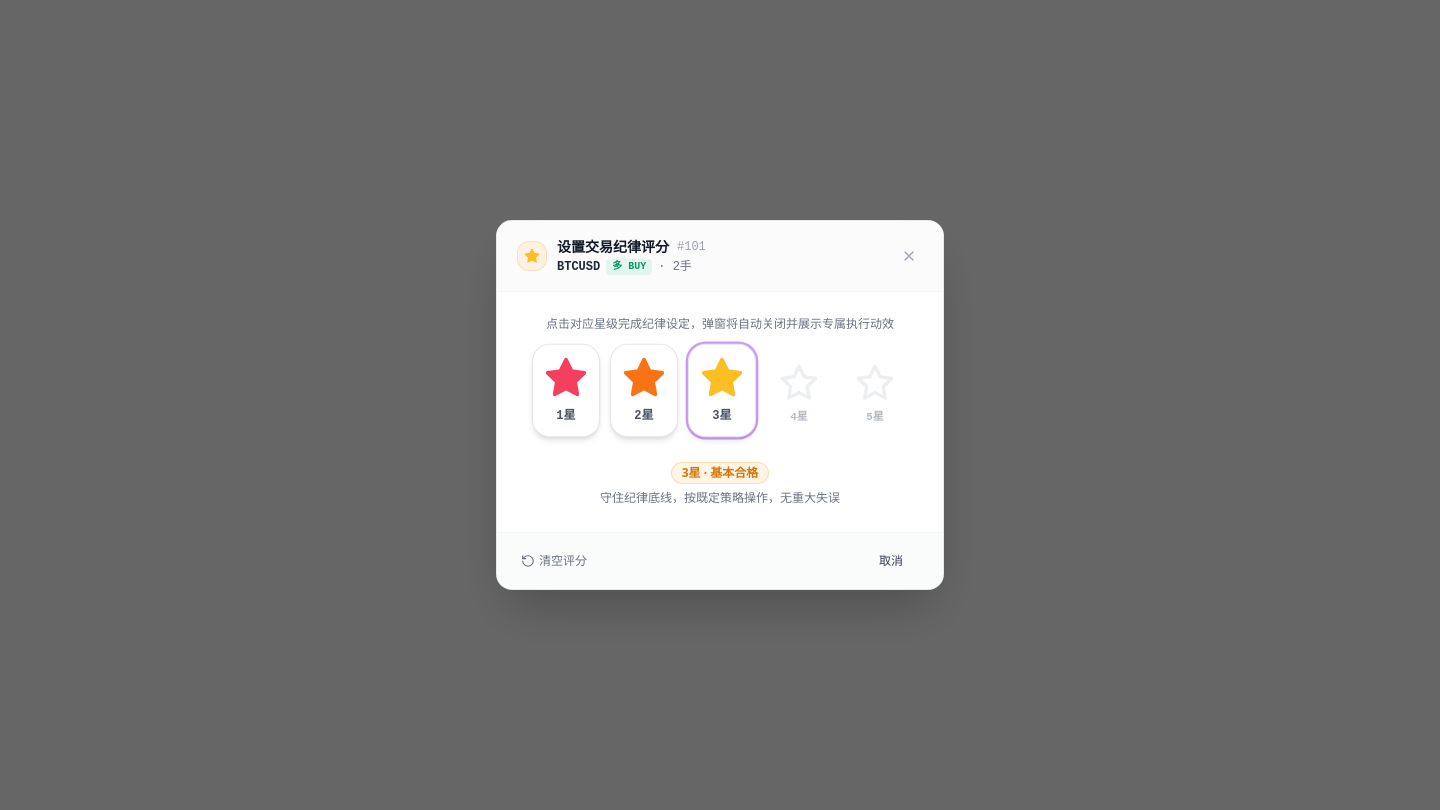
Test: TradeRatingModal › supports mouse hover preview of star descriptions
Step 1. Hover over the button titled "评定为 5 星" → coordinates (875, 394), box [845,353,905,435]
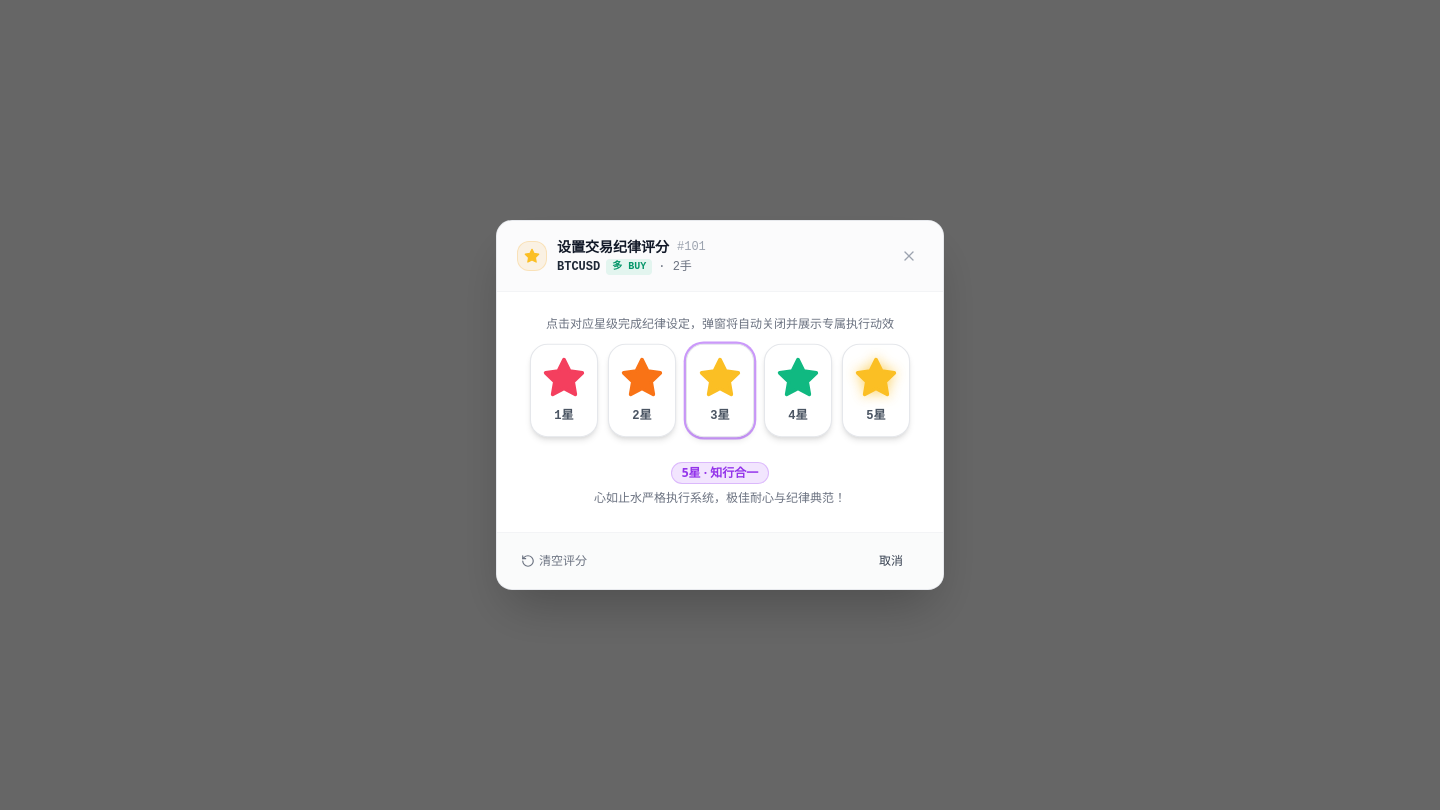
expect the text "5星 · 知行合一" is shown: met, box [671,462,769,484]
Step 2. Hover over the button titled "评定为 1 星" → coordinates (564, 390), box [530,344,598,436]
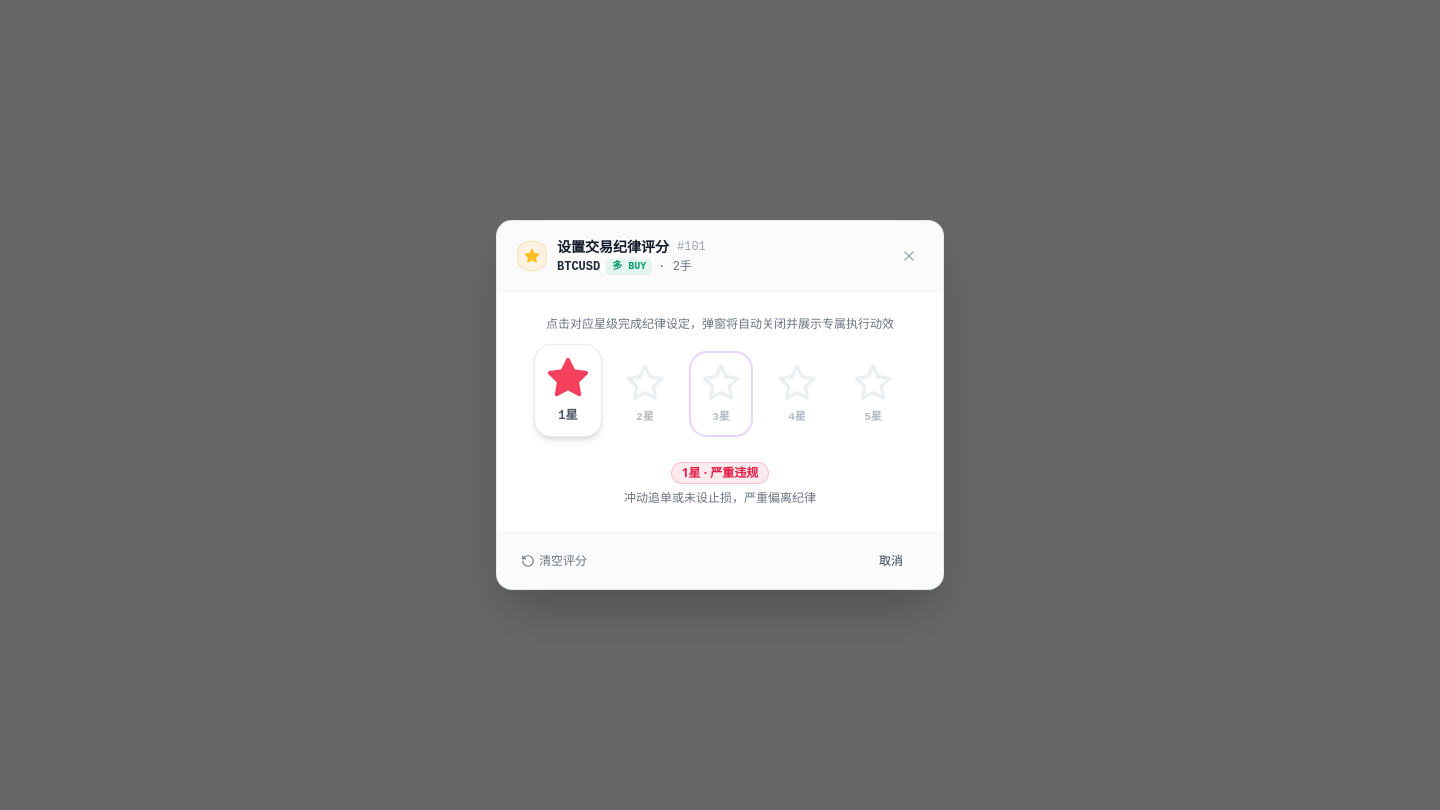
expect the text "1星 · 严重违规" is shown: met, box [671,462,769,484]
